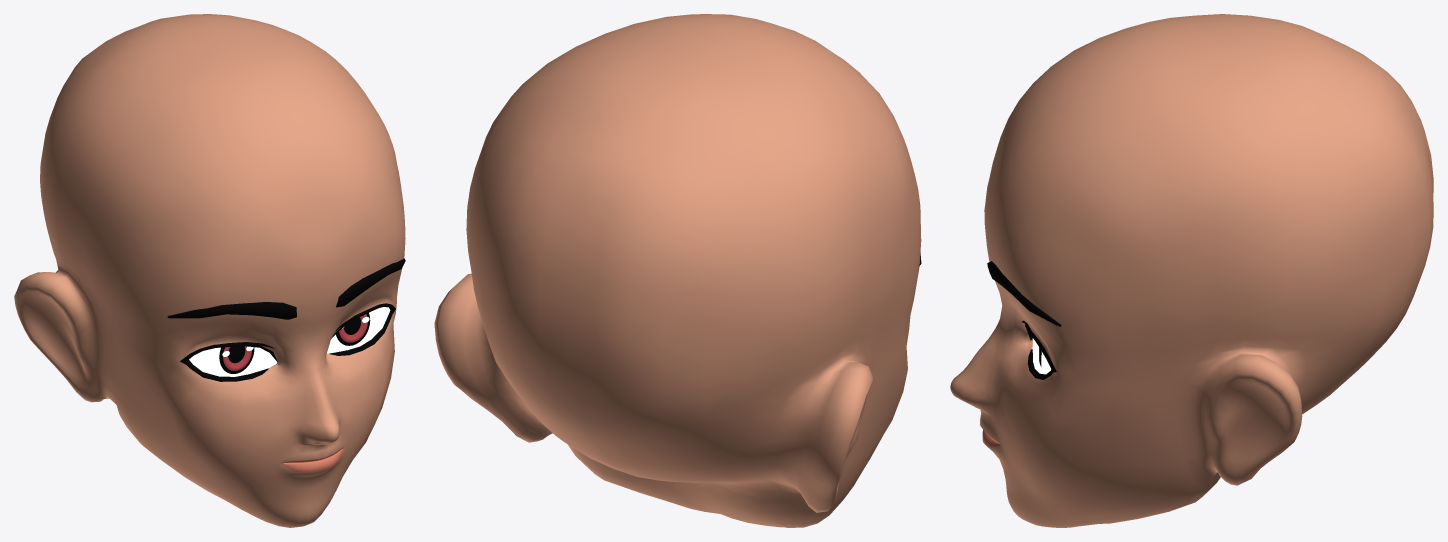
The model's file is BaseHumanMaleHead_SHAPEKEYS_Keyed.gltf.
3 views of the same model, side by side, from view 1: azimuth 30°, elevation 25°; view 2: azimuth 150°, elevation 25°; view 3: azimuth 270°, elevation 25° (orthographic). The views are drawn at different scales.
Visible parts, largest first — view 1: baseHumanMale_Head; view 2: baseHumanMale_Head; view 3: baseHumanMale_Head.
Boxes of the visible parts, x1,y1,x2,y2 form: baseHumanMale_Head: [14, 14, 405, 527]; baseHumanMale_Head: [434, 14, 921, 527]; baseHumanMale_Head: [950, 14, 1433, 527].
Size of the model in its own units: 0.185 by 0.2219 by 0.202.
